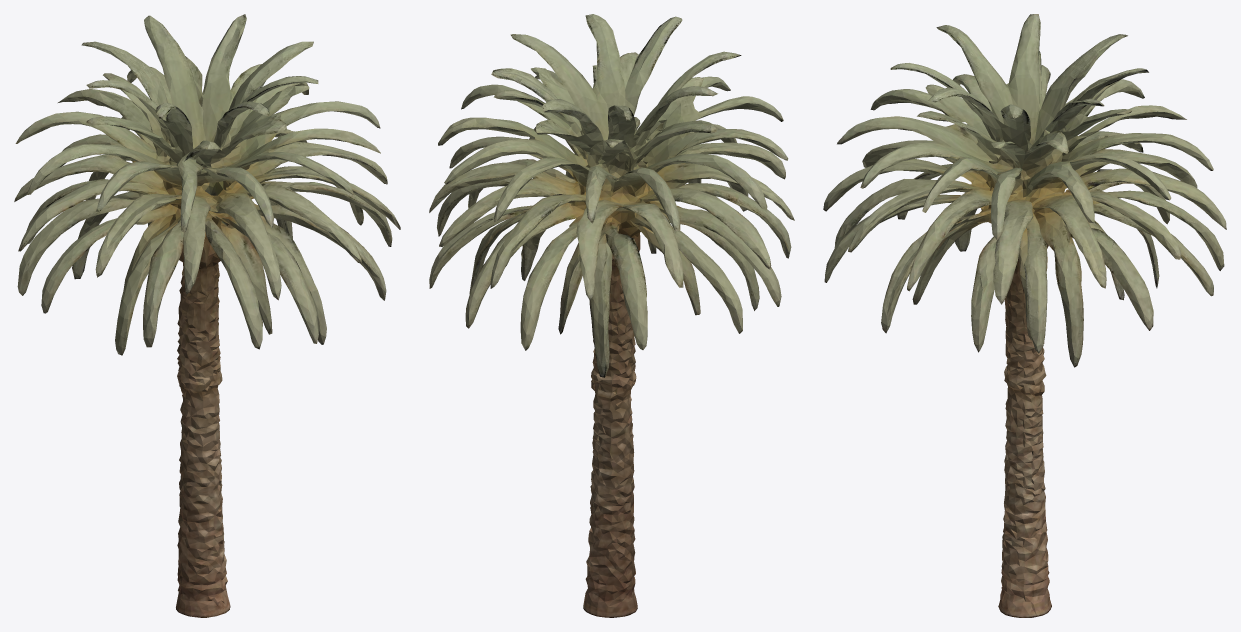
Rendered from palm.glb.
The picture shows the model from 3 angles, left to right: view 1: azimuth 30°, elevation 25°; view 2: azimuth 150°, elevation 25°; view 3: azimuth 270°, elevation 25°; orthographic projection.
Parts seen in each view (by area): view 1: geometry_0; view 2: geometry_0; view 3: geometry_0.
Boxes of the visible parts, x1,y1,x2,y2 form: geometry_0: (14,14,400,617); geometry_0: (429,14,794,617); geometry_0: (823,14,1226,617).
Size of the model in its own units: 0.6621 by 1 by 0.674.
1 material, 1 textured.
